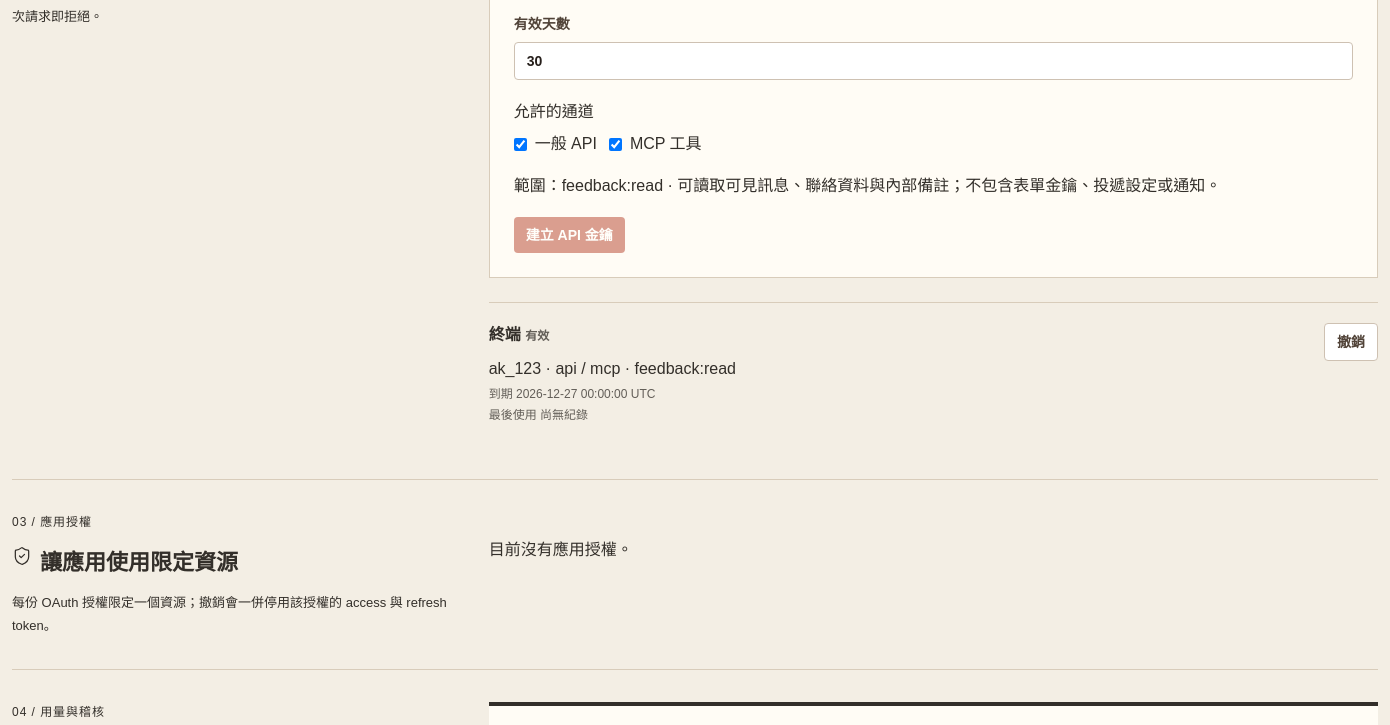
Test: usage uses server numbers and revocation reloads actual credential state
(page scrolled)
Click the button with aria-label "撤銷金鑰 終端" at (1351, 342), box 1324,323 -> 1378,361
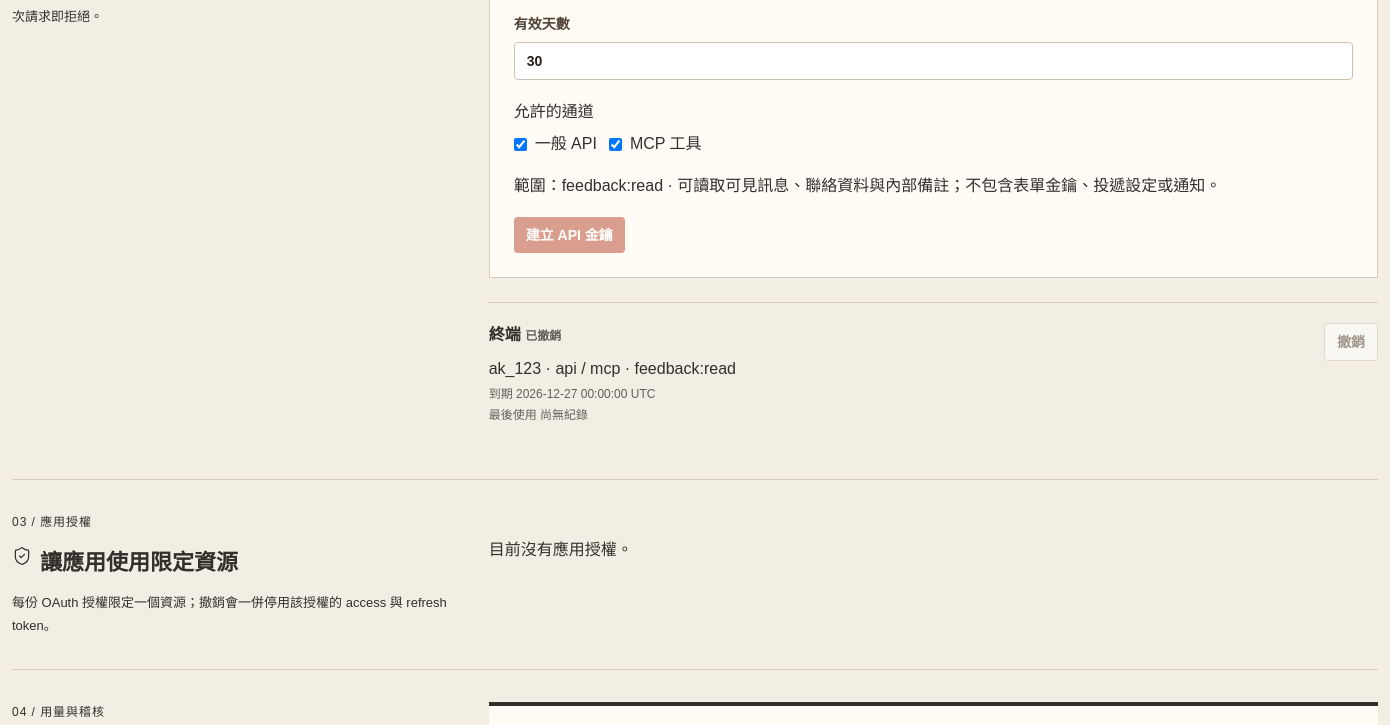
Now the text "已撤銷" is shown, box 525,329 -> 561,343
